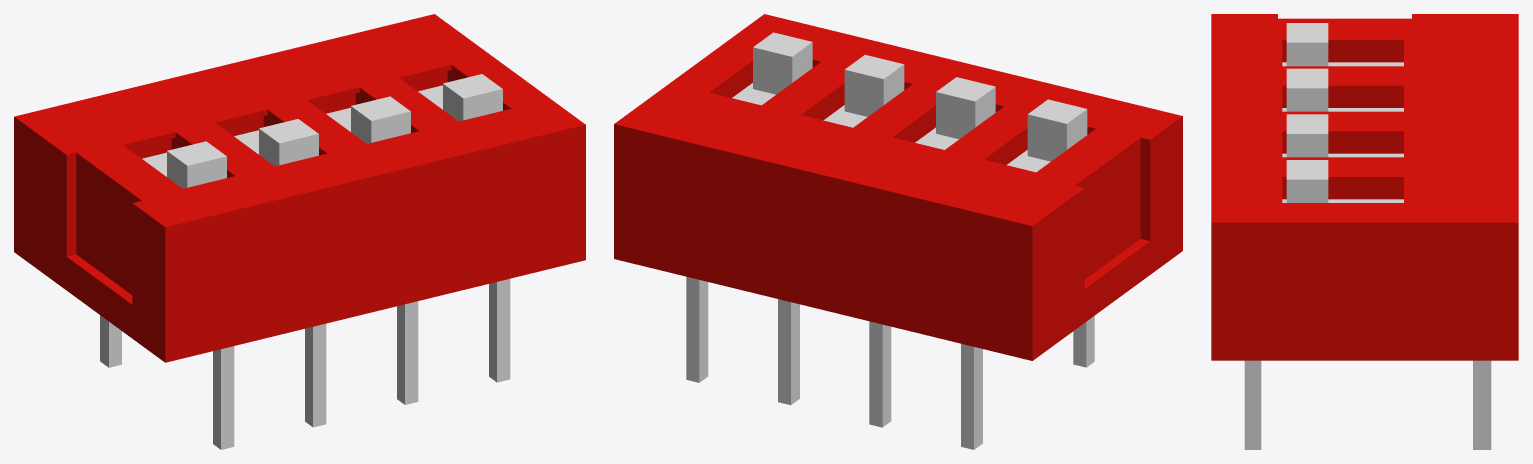
Rendered from DipSwitch.glb.
3 renders of one model, left to right at view 1: azimuth 30°, elevation 25°; view 2: azimuth 150°, elevation 25°; view 3: azimuth 270°, elevation 25°, orthographic. The views are drawn at different scales.
Parts seen in each view (by area): view 1: Dip Switch; view 2: Dip Switch; view 3: Dip Switch.
Boxes of the visible parts, x1=… form: Dip Switch: x1=14, y1=14, x2=585, y2=449; Dip Switch: x1=614, y1=14, x2=1182, y2=449; Dip Switch: x1=1211, y1=14, x2=1518, y2=449.
Bounding box in the file's own units: 0.291 × 0.18 × 0.1812.
